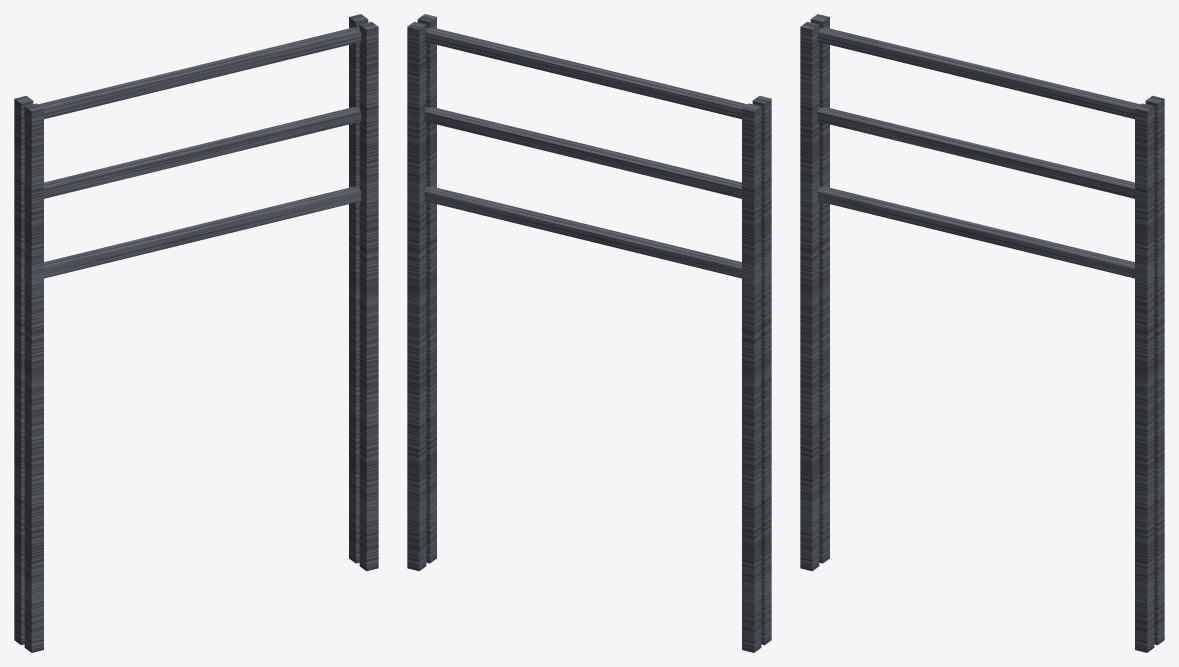
Rendered from laundry_frame.fbx.
3 views of the same model, side by side, from view 1: azimuth 30°, elevation 25°; view 2: azimuth 150°, elevation 25°; view 3: azimuth 330°, elevation 25° (orthographic).
Visible parts, largest first — view 1: laundry_frame; view 2: laundry_frame; view 3: laundry_frame.
Boxes of the visible parts, bbox=[...] form: laundry_frame: bbox=[14, 14, 378, 652]; laundry_frame: bbox=[407, 14, 771, 652]; laundry_frame: bbox=[800, 14, 1164, 652].
Size of the model in its own units: 114 by 170 by 10.
